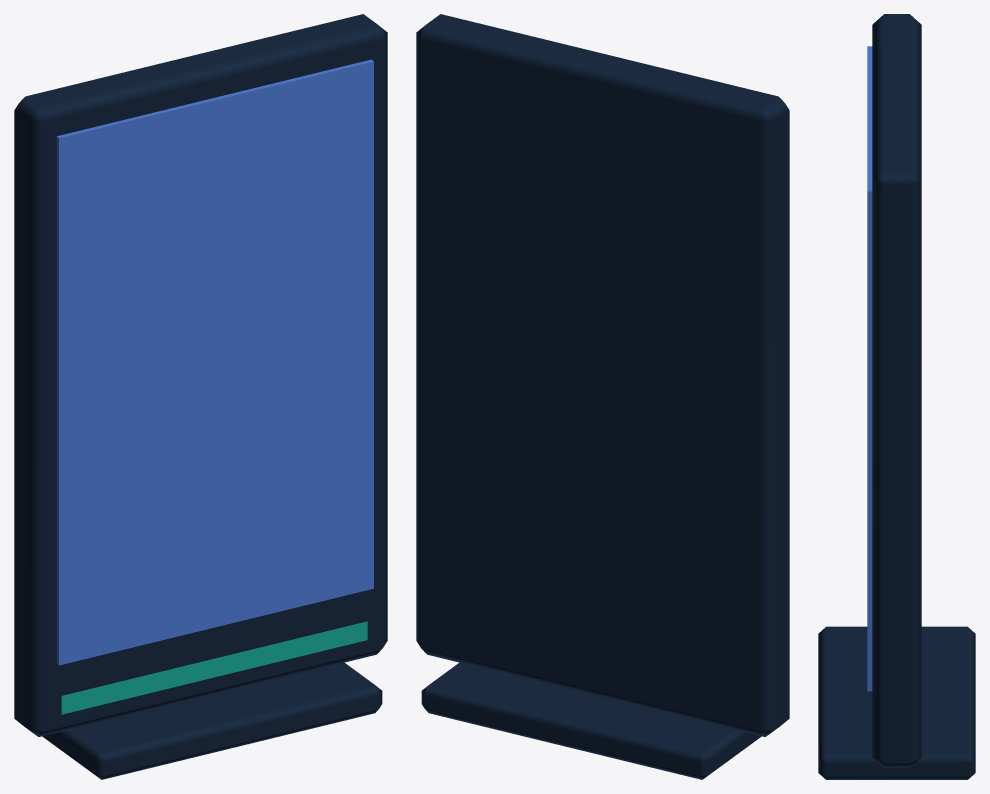
File: CM_Interior_DigitalAdScreen.fbx
The picture shows the model from 3 angles, left to right: view 1: azimuth 30°, elevation 25°; view 2: azimuth 150°, elevation 25°; view 3: azimuth 270°, elevation 25°; orthographic projection. The views are drawn at different scales.
Parts seen in each view (by area): view 1: Face, Body; view 2: Body; view 3: Body, Face.
Boxes of the visible parts, <box> form: Face: <box>56,59,373,665</box>; Body: <box>14,14,387,779</box>; Body: <box>416,14,789,779</box>; Body: <box>818,14,975,779</box>; Face: <box>867,46,872,691</box>.
Size of the model in its own units: 4 by 1.6 by 7.
1 material, 1 textured.
